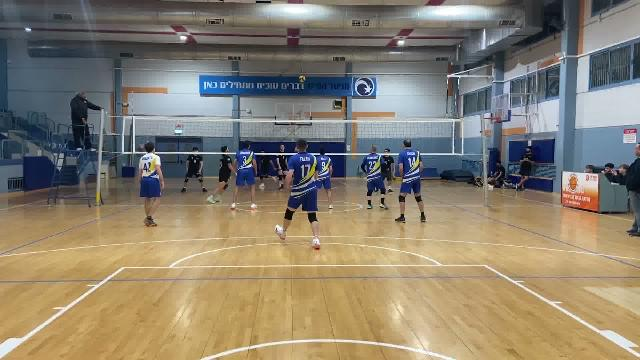ball: (299, 72, 309, 86)
